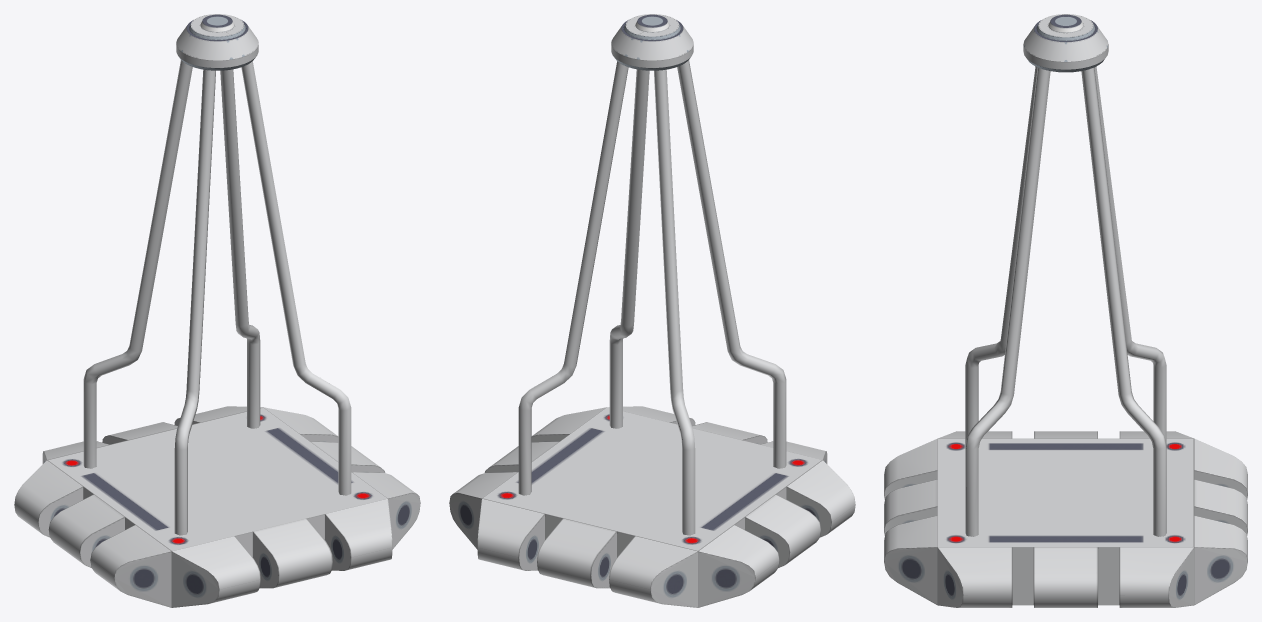
The model's file is Radar_Part_02_B.FBX.
3 renders of one model, left to right at view 1: azimuth 30°, elevation 25°; view 2: azimuth 150°, elevation 25°; view 3: azimuth 270°, elevation 25°, orthographic. The views are drawn at different scales.
Parts seen in each view (by area): view 1: Radar_Part_02_B; view 2: Radar_Part_02_B; view 3: Radar_Part_02_B.
Boxes of the visible parts, x1,y1,x2,y2 form: Radar_Part_02_B: (14,14,420,607); Radar_Part_02_B: (449,14,855,607); Radar_Part_02_B: (884,14,1247,607).
Size of the model in its own units: 8.5 by 13.65 by 8.5.
3 materials, 3 textured.
